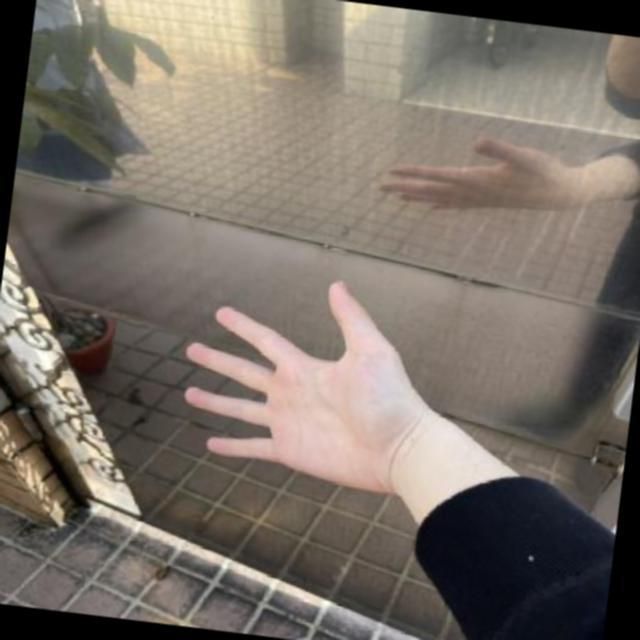hand: (154, 248, 450, 534), (357, 97, 615, 250)
